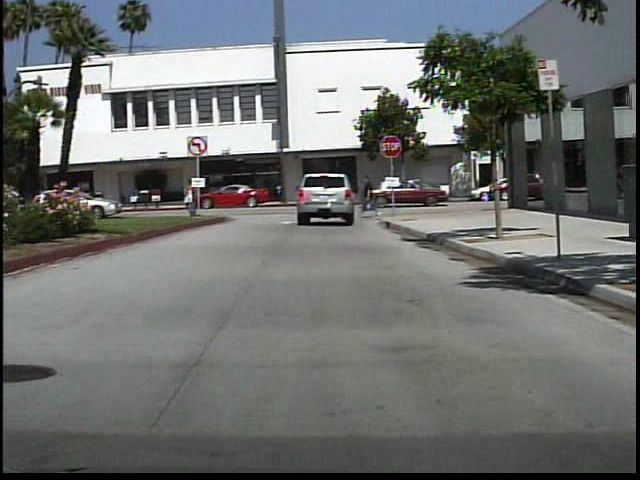person: (177, 175, 207, 219), (359, 173, 383, 219), (232, 178, 248, 203)
